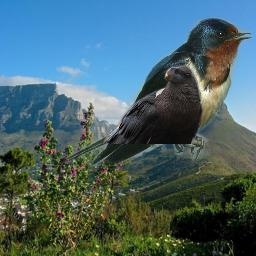Crow: (101, 64, 204, 144)
Swallow: (63, 17, 252, 166)
